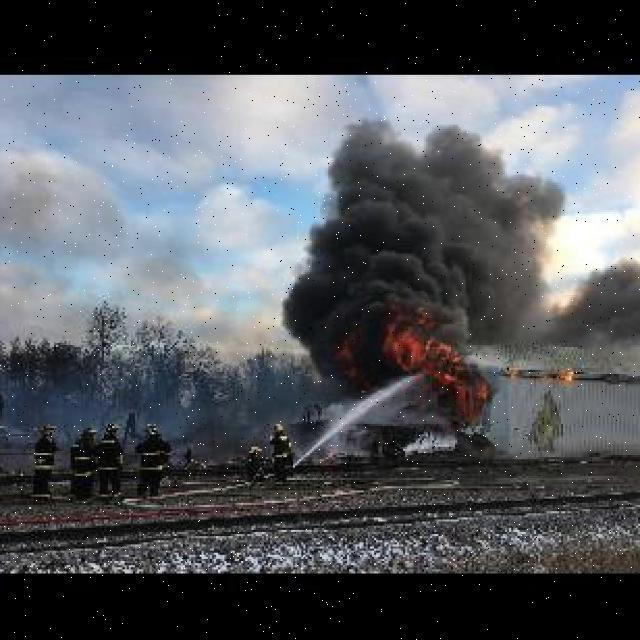fire: (337, 278, 515, 432)
smoke: (276, 148, 561, 364)
